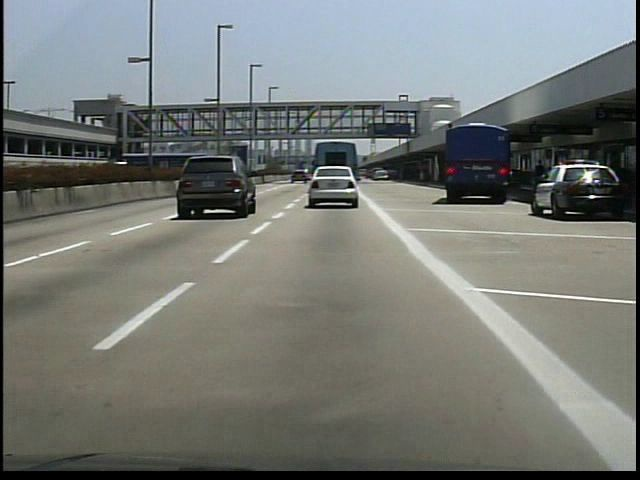person: (531, 154, 551, 201)
